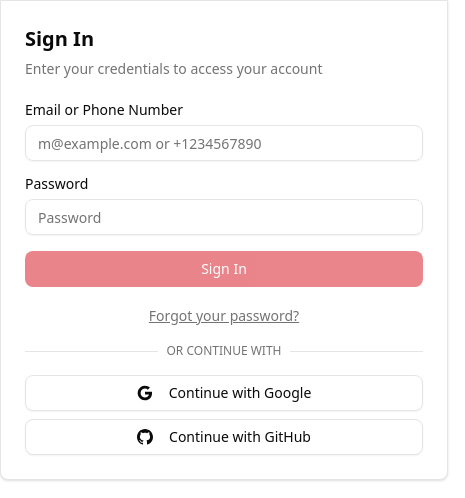
Test: SignIn Form › should disable submit button when loading
Type "test@example.com" into the field labelled "Email or Phone Number" at (224, 143), box [25, 125, 423, 161]
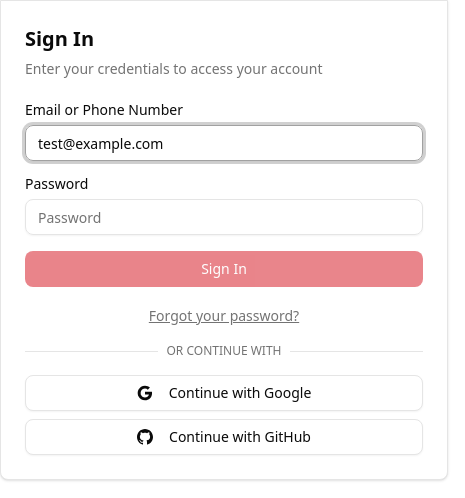
Type "password123" into the password field labelled "Password" at (224, 217), box [25, 199, 423, 235]
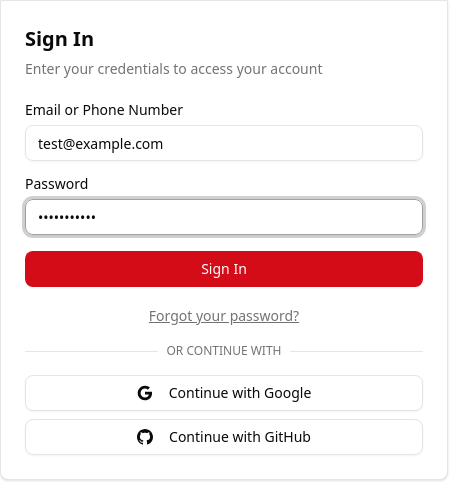
Click the button "Sign In" at (224, 269), box [25, 251, 423, 287]
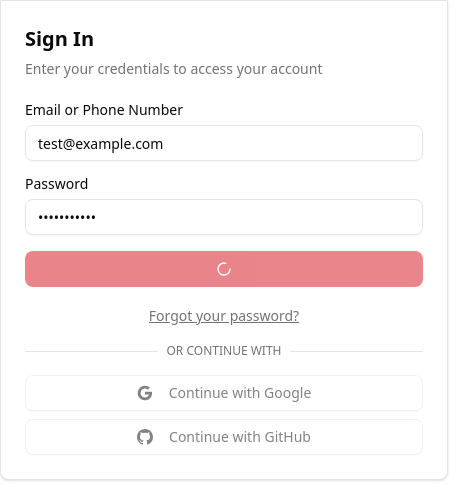
Now the button named "sign in" is disabled, box [25, 251, 423, 287]
